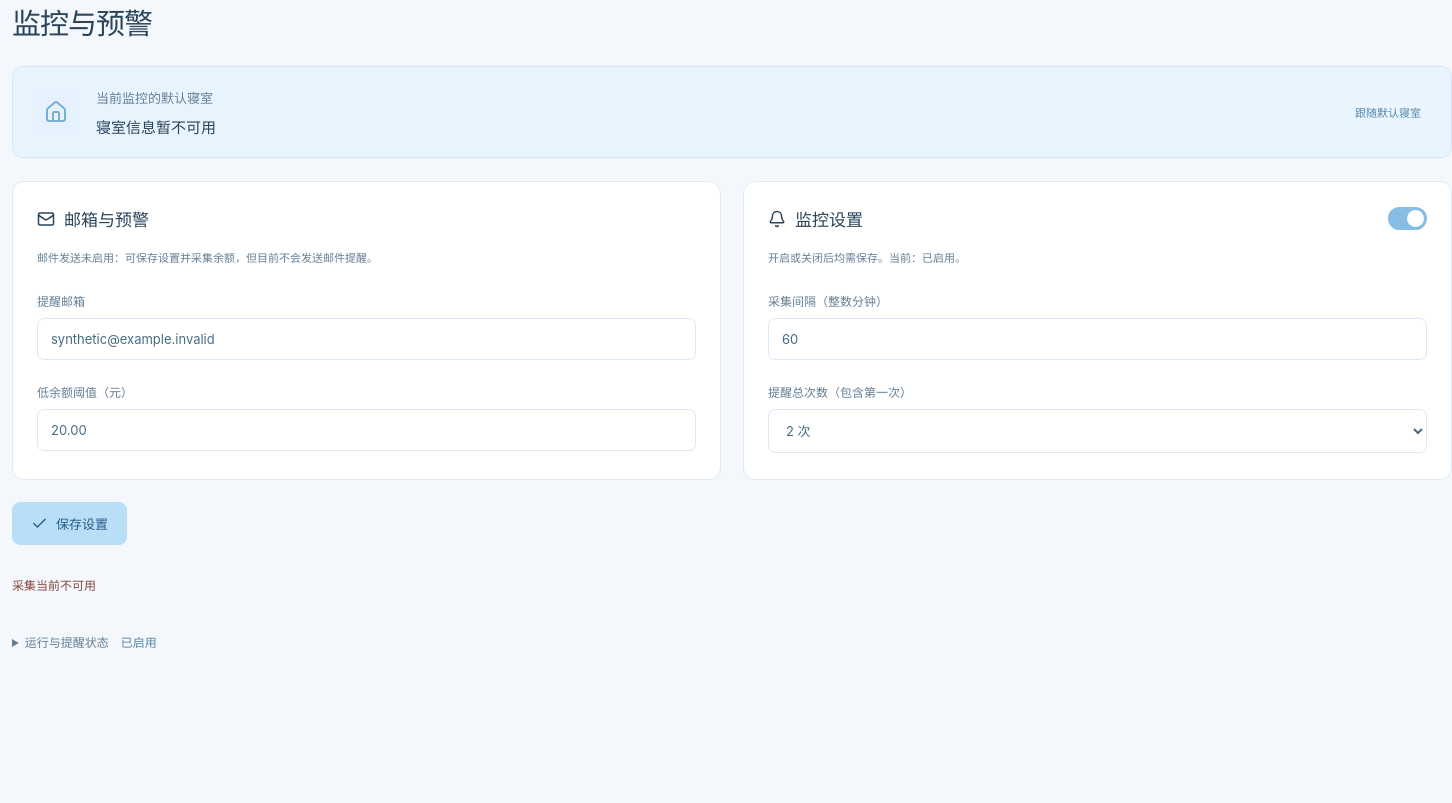
Test: 409展示新的服务端值并保留草稿，明确确认版本后才能保存
Replace the text in the field labelled "采集间隔（整数分钟）" with "75": coordinates (1098, 339) [768,318,1427,360]
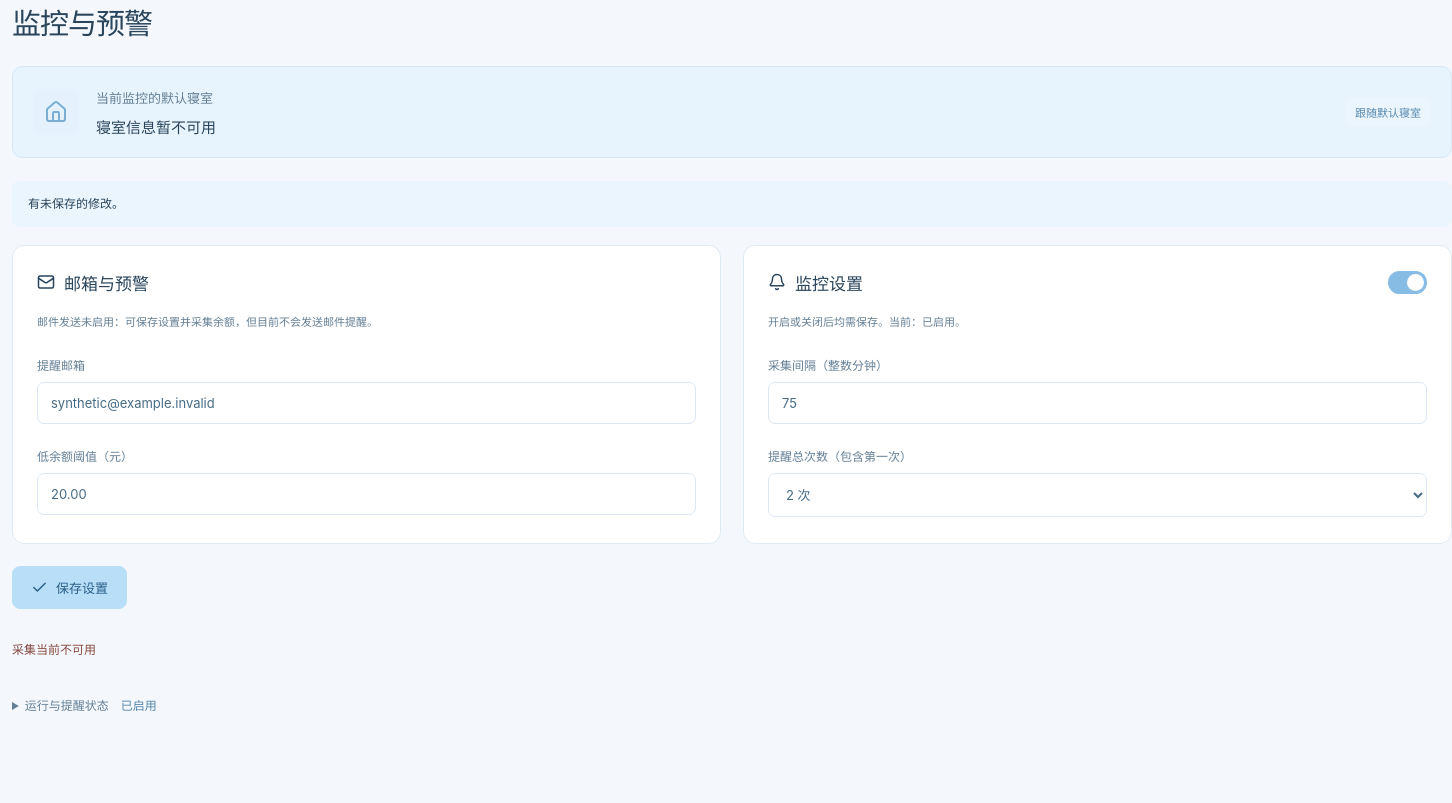
Click the button "保存设置": coordinates (70, 587) [12,566,127,609]
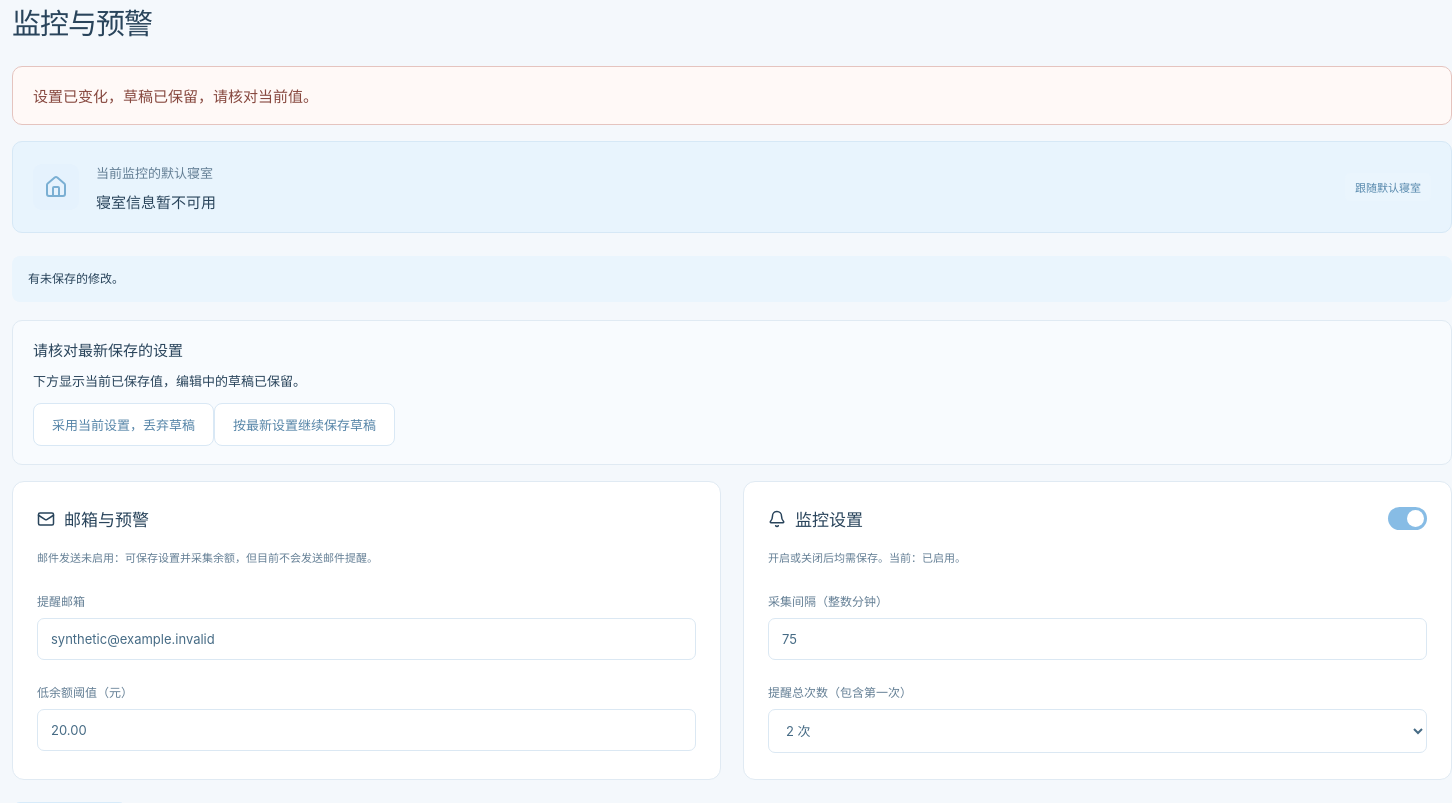
Expected: the heading "请核对最新保存的设置" is shown, [33,341,183,360]
Click the button "按最新设置继续保存草稿": coordinates (304, 425) [214,403,395,446]
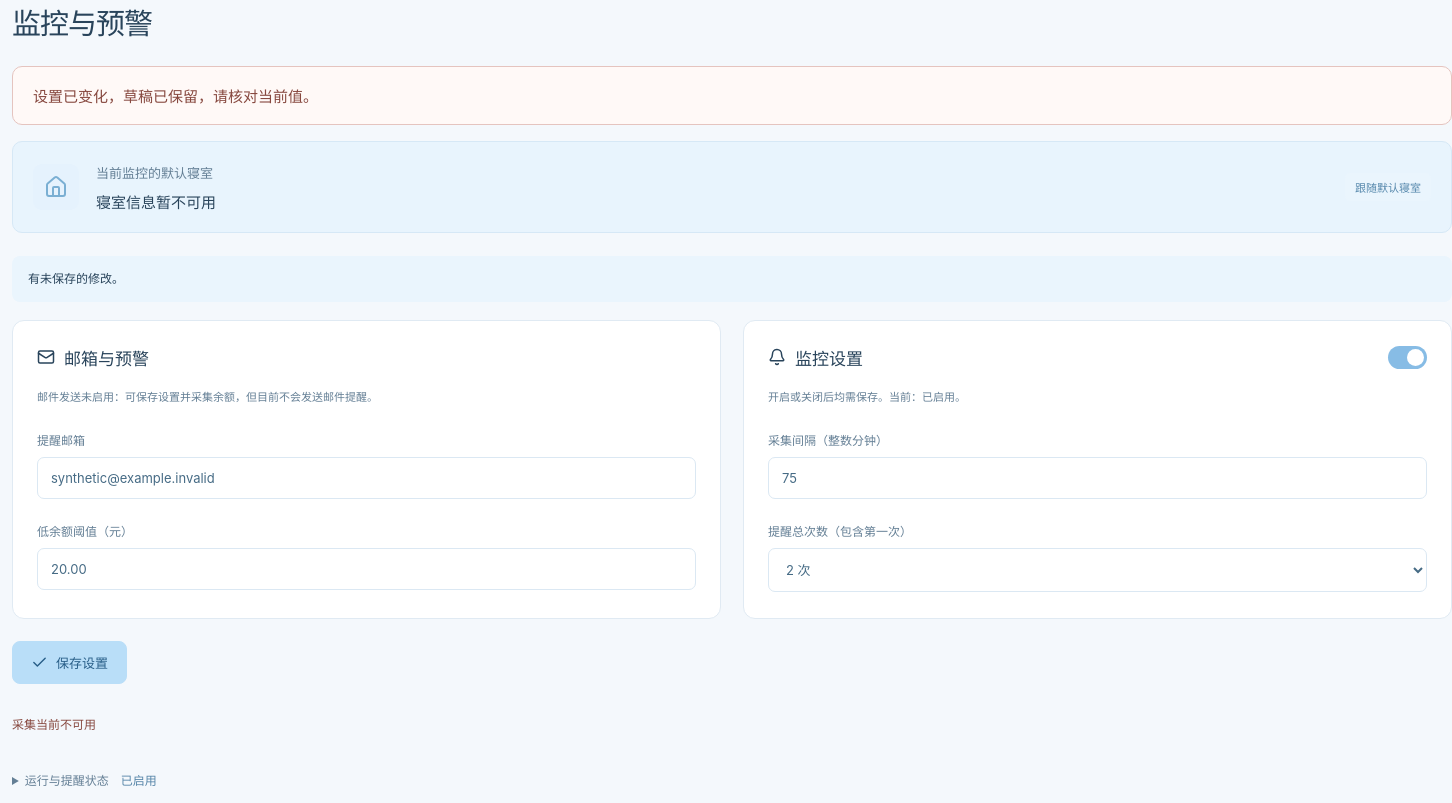
Click the button "保存设置": coordinates (70, 662) [12,641,127,684]
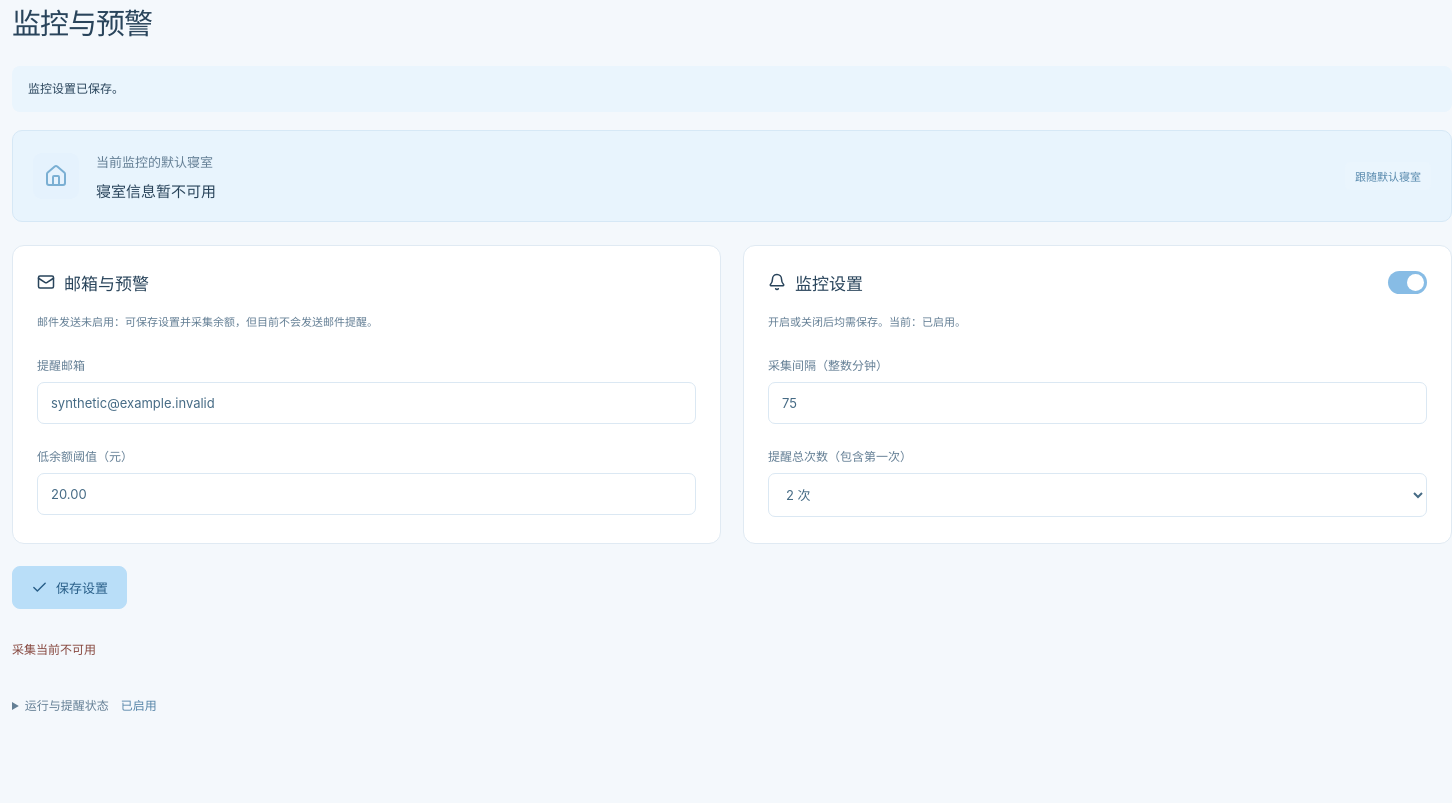
Expected: the text "监控设置已保存。" is shown, [12,66,1451,112]
